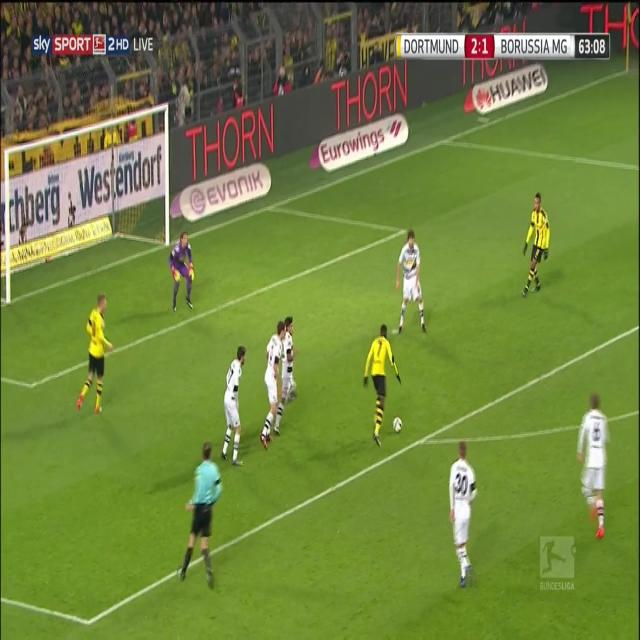Ball: (391, 414, 404, 437)
Goalkeeper: (167, 229, 197, 319)
Player: (575, 394, 611, 542), (74, 292, 114, 420), (363, 321, 402, 448), (449, 437, 479, 591), (394, 228, 427, 340), (520, 190, 552, 302), (220, 345, 248, 472), (259, 321, 286, 452), (271, 312, 298, 440)
Referee: (176, 441, 223, 589)
